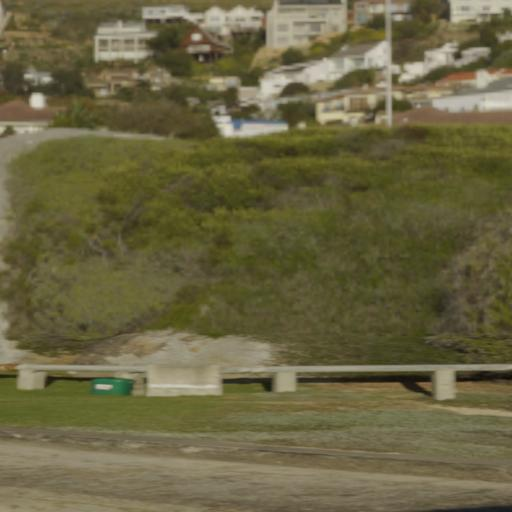nothing: (0, 0, 510, 512)
